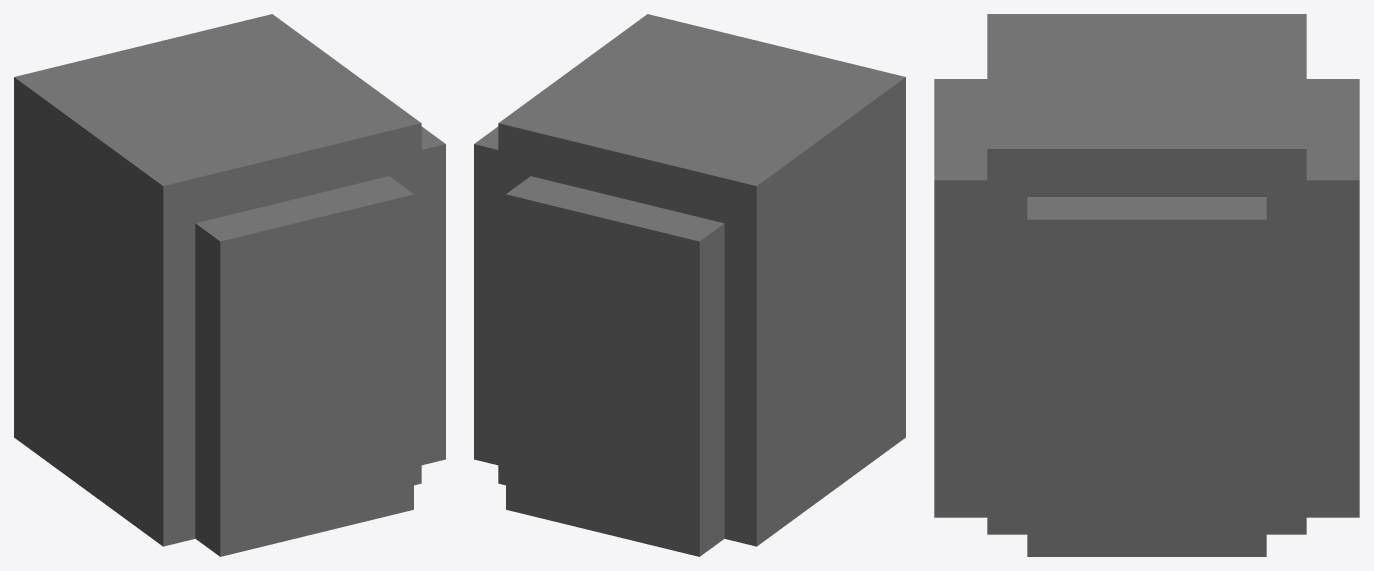
The model's file is Mushburg_wall_3.glb.
3 views of the same model, side by side, from view 1: azimuth 30°, elevation 25°; view 2: azimuth 150°, elevation 25°; view 3: azimuth 270°, elevation 25° (orthographic). The views are drawn at different scales.
Visible parts, largest first — view 1: wall_3; view 2: wall_3; view 3: wall_3.
Boxes of the visible parts, x1,y1,x2,y2 form: wall_3: [14, 14, 445, 556]; wall_3: [474, 14, 905, 556]; wall_3: [934, 14, 1359, 556].
Bounding box in the file's own units: 0.875 × 1 × 1.
Materials: 1 (1 with a texture image).
